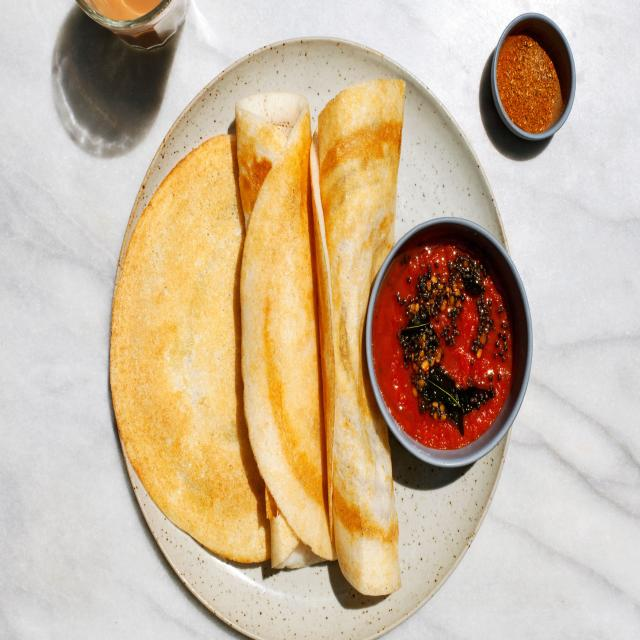Wet Waste: (114, 132, 248, 592), (310, 72, 416, 602), (233, 87, 340, 570)
